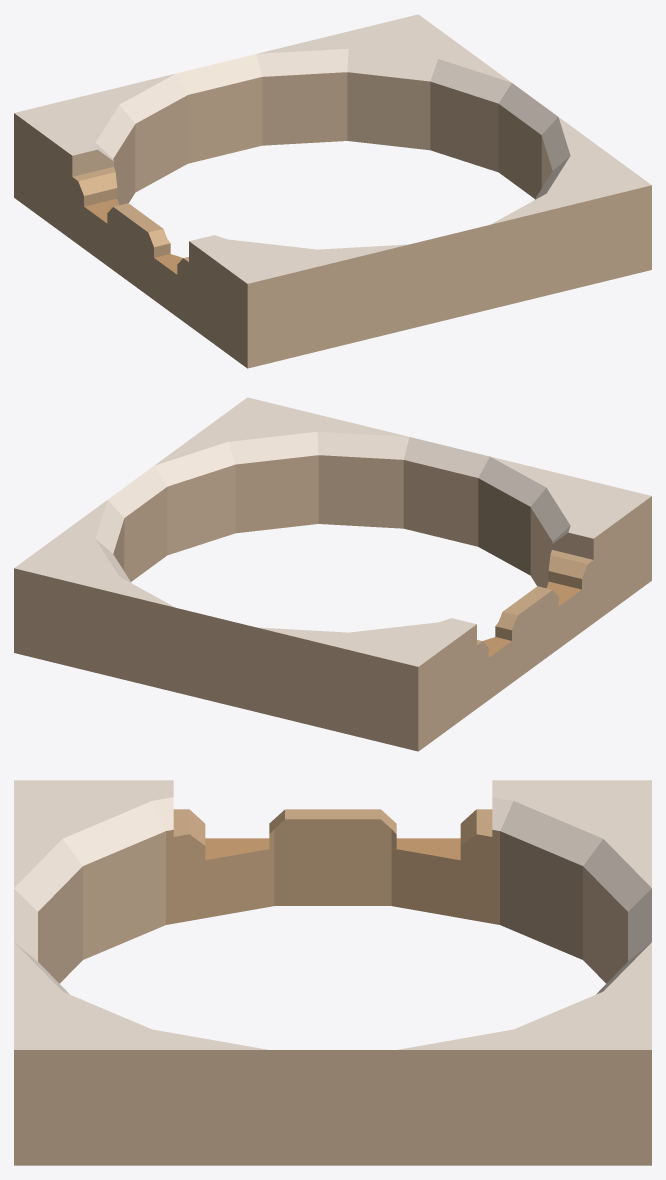
File: Puzzle_Track_Rotating_Housing_End.fbx
The picture shows the model from 3 angles, top to bottom: view 1: azimuth 30°, elevation 25°; view 2: azimuth 150°, elevation 25°; view 3: azimuth 270°, elevation 25°; orthographic projection. The views are drawn at different scales.
Parts seen in each view (by area): view 1: Sandstone_Trim.Sandstone_Trim.Sandstone_Trim.Sandstone_Trim., Sandstone_Floor.Sandstone_Floor.Sandstone_Floor.Sandstone_Fl, Sandstone_4.Sandstone_4.Sandstone_4.Sandstone_4.Sandstone_4., Sandstone_5.Sandstone_5; view 2: Sandstone_Trim.Sandstone_Trim.Sandstone_Trim.Sandstone_Trim., Sandstone_Floor.Sandstone_Floor.Sandstone_Floor.Sandstone_Fl, Sandstone_4.Sandstone_4.Sandstone_4.Sandstone_4.Sandstone_4., Sandstone_5.Sandstone_5; view 3: Sandstone_Trim.Sandstone_Trim.Sandstone_Trim.Sandstone_Trim., Sandstone_Floor.Sandstone_Floor.Sandstone_Floor.Sandstone_Fl, Sandstone_4.Sandstone_4.Sandstone_4.Sandstone_4.Sandstone_4., Sandstone_5.Sandstone_5.
Part boxes in pixels (box(x1,y1,x2,y2)): Sandstone_Trim.Sandstone_Trim.Sandstone_Trim.Sandstone_Trim.: box(14, 72, 651, 368); Sandstone_Floor.Sandstone_Floor.Sandstone_Floor.Sandstone_Fl: box(14, 14, 651, 283); Sandstone_4.Sandstone_4.Sandstone_4.Sandstone_4.Sandstone_4.: box(73, 167, 188, 261); Sandstone_5.Sandstone_5: box(84, 198, 182, 274); Sandstone_Trim.Sandstone_Trim.Sandstone_Trim.Sandstone_Trim.: box(14, 455, 651, 751); Sandstone_Floor.Sandstone_Floor.Sandstone_Floor.Sandstone_Fl: box(14, 397, 651, 666); Sandstone_4.Sandstone_4.Sandstone_4.Sandstone_4.Sandstone_4.: box(477, 550, 592, 644); Sandstone_5.Sandstone_5: box(483, 581, 581, 657); Sandstone_Trim.Sandstone_Trim.Sandstone_Trim.Sandstone_Trim.: box(14, 831, 651, 1165); Sandstone_Floor.Sandstone_Floor.Sandstone_Floor.Sandstone_Fl: box(14, 780, 651, 1049); Sandstone_4.Sandstone_4.Sandstone_4.Sandstone_4.Sandstone_4.: box(166, 809, 499, 924); Sandstone_5.Sandstone_5: box(205, 838, 460, 860).
Bounding box in the file's own units: 1 × 0.2 × 1.
